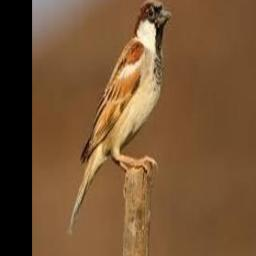Sparrow: (67, 0, 172, 237)
